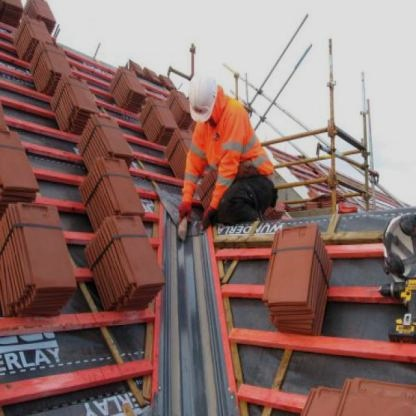vest: (177, 101, 275, 180)
white: (183, 69, 220, 123)
